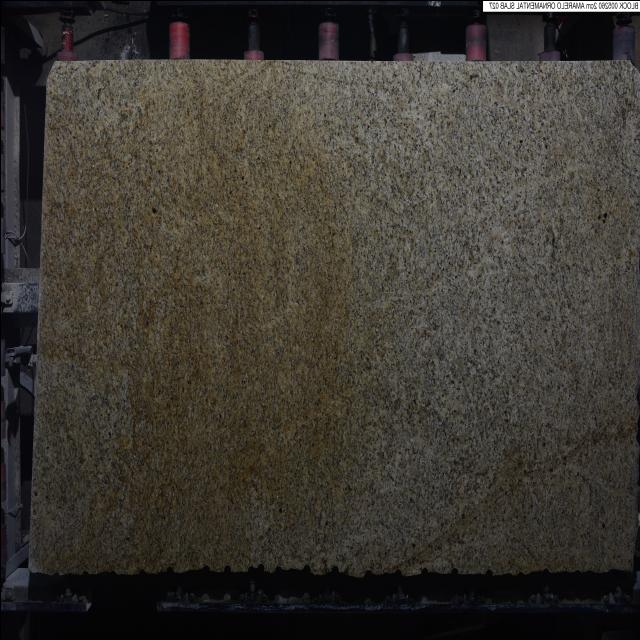chapa: (29, 60, 640, 576)
veio: (328, 562, 338, 576), (222, 562, 232, 574)
